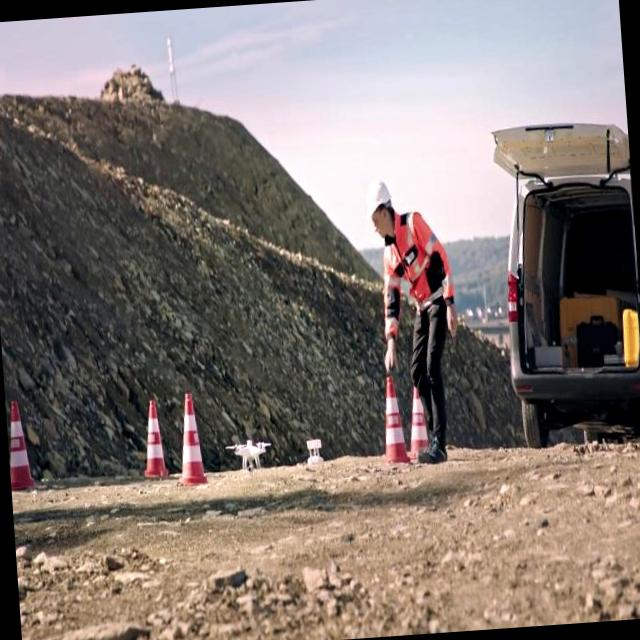drone: (224, 437, 272, 472)
